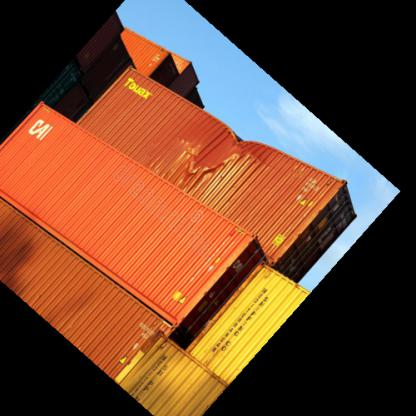Damage: (174, 126, 256, 170)
